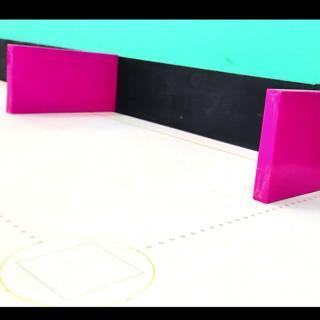xparking: (12, 58, 113, 117), (268, 92, 318, 206)
